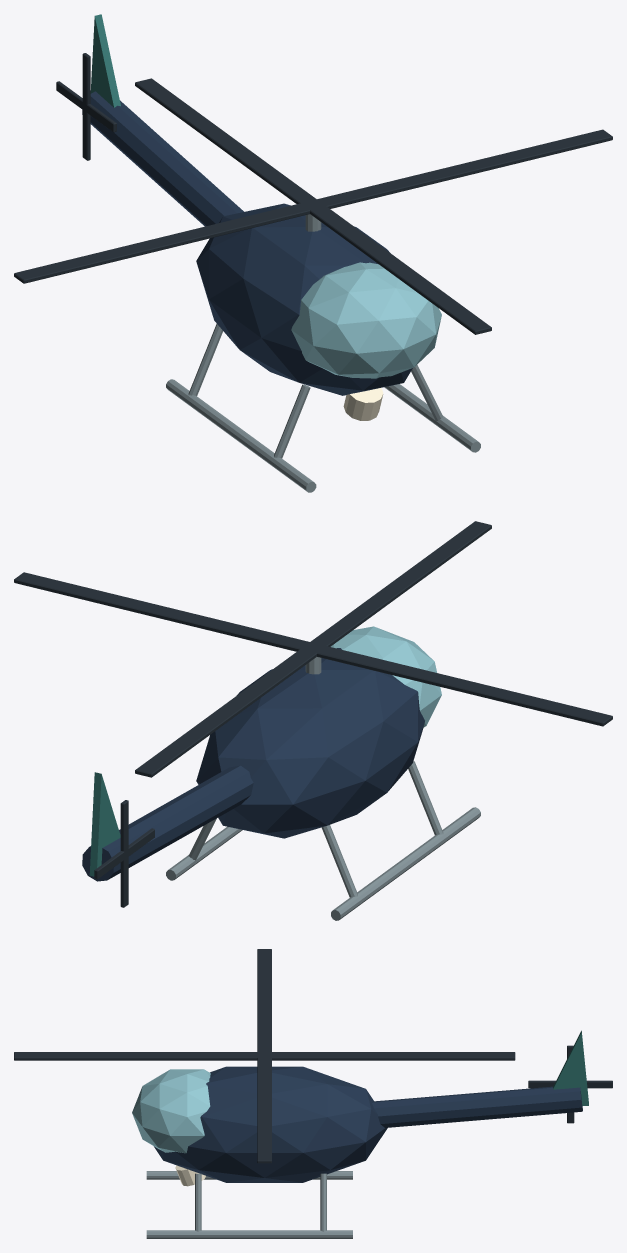
The model's file is Vehicle_PoliceHelicopter.fbx.
The picture shows the model from 3 angles, top to bottom: view 1: azimuth 30°, elevation 25°; view 2: azimuth 150°, elevation 25°; view 3: azimuth 270°, elevation 25°; orthographic projection. The views are drawn at different scales.
Visible parts, largest first — view 1: Fuselage, Canopy, RotorBlade, RotorBlade.001, TailBoom, LandingSkid, TailFin, LandingSkid.001, Searchlight, TailBlade.001, SkidStrut, TailBlade (+1 smaller); view 2: Fuselage, RotorBlade, RotorBlade.001, TailBoom, Canopy, LandingSkid, TailFin, LandingSkid.001, TailBlade.001, SkidStrut.001, SkidStrut, TailBlade; view 3: Fuselage, TailBoom, Canopy, RotorBlade.001, RotorBlade, LandingSkid.001, TailFin, LandingSkid, TailBlade, SkidStrut.002, SkidStrut.003.
Boxes of the visible parts, <box> form: Fuselage: <box>196,203,412,395</box>; Canopy: <box>291,262,441,378</box>; RotorBlade: <box>14,129,612,283</box>; RotorBlade.001: <box>135,78,491,334</box>; TailBoom: <box>82,91,243,226</box>; LandingSkid: <box>166,379,316,492</box>; TailFin: <box>90,14,120,107</box>; LandingSkid.001: <box>384,384,480,452</box>; Searchlight: <box>343,387,383,420</box>; TailBlade.001: <box>82,53,90,160</box>; SkidStrut: <box>274,384,310,458</box>; TailBlade: <box>56,81,116,132</box>; Fuselage: <box>196,648,424,838</box>; RotorBlade: <box>14,572,612,726</box>; RotorBlade.001: <box>135,521,491,777</box>; TailBoom: <box>82,765,253,881</box>; Canopy: <box>330,626,441,727</box>; LandingSkid: <box>331,807,480,920</box>; TailFin: <box>89,772,120,876</box>; LandingSkid.001: <box>166,826,242,880</box>; TailBlade.001: <box>120,800,128,907</box>; SkidStrut.001: <box>321,825,357,897</box>; SkidStrut: <box>408,761,443,834</box>; TailBlade: <box>94,828,154,879</box>; Fuselage: <box>154,1066,387,1182</box>; TailBoom: <box>372,1086,582,1127</box>; Canopy: <box>132,1069,210,1153</box>; RotorBlade.001: <box>14,1052,515,1060</box>; RotorBlade: <box>257,949,271,1163</box>; LandingSkid.001: <box>146,1230,352,1238</box>; TailFin: <box>553,1030,588,1105</box>; LandingSkid: <box>146,1171,352,1179</box>; TailBlade: <box>528,1080,612,1088</box>; SkidStrut.002: <box>195,1173,201,1231</box>; SkidStrut.003: <box>320,1173,326,1231</box>.
Bounding box in the file's own units: 6.8 × 2.66 × 8.13.
